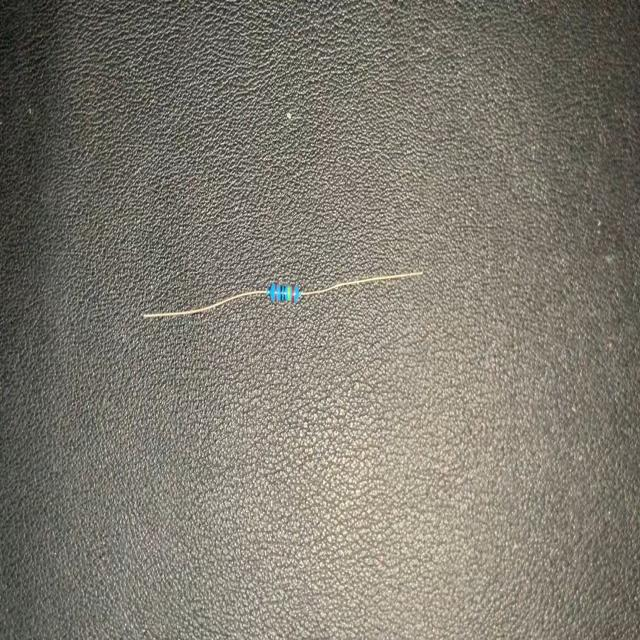resistor: (135, 255, 436, 334)
